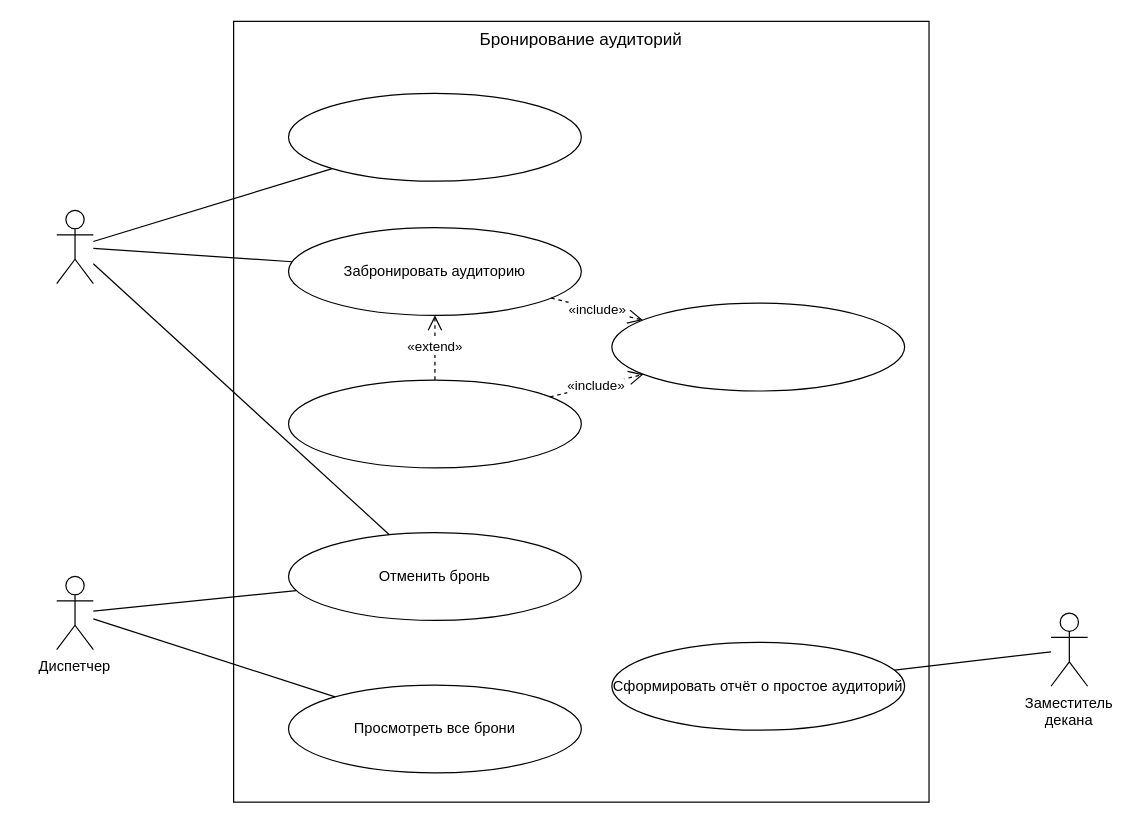
The diagram is 1135 pixels wide and 824 high, and some of its shapes have lost their labels. The centre of each missing label's shape, as x and y in pixels:
"Заказать оборудование" belongs at pixel 434 423.
"Посмотреть свободные аудитории" belongs at pixel 434 136.
"Проверить доступность аудитории" belongs at pixel 758 346.
"Сотрудник (староста, преподаватель)" belongs at pixel 74 246.
